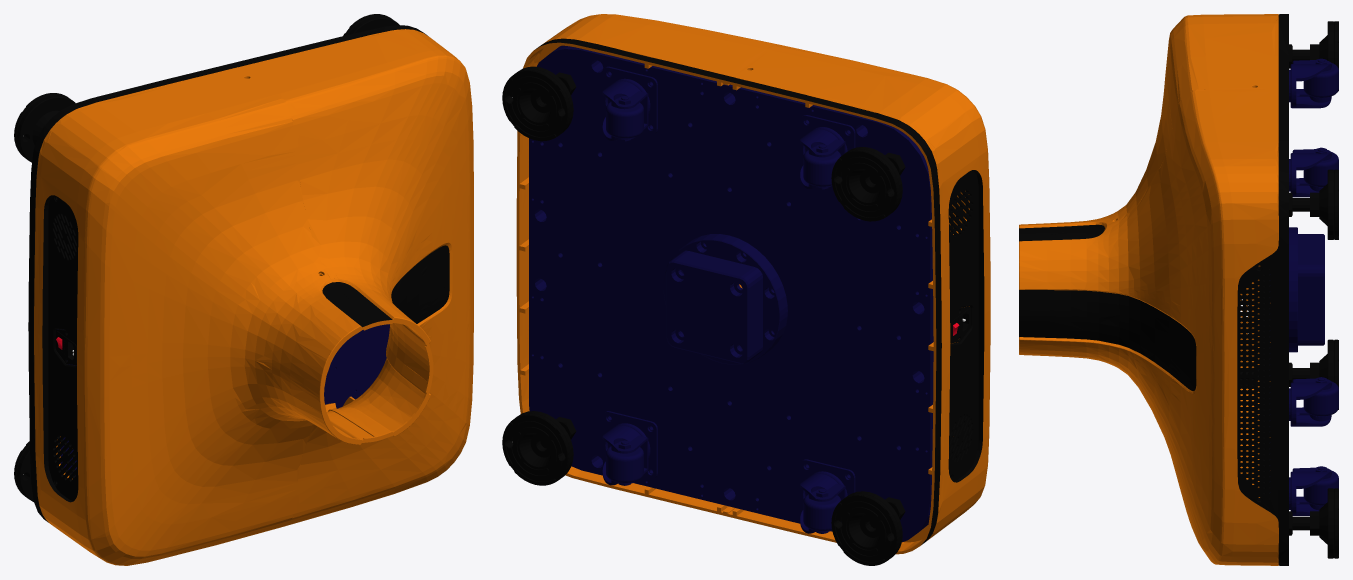
The picture shows the model from 3 angles, left to right: view 1: azimuth 30°, elevation 25°; view 2: azimuth 150°, elevation 25°; view 3: azimuth 270°, elevation 25°; orthographic projection. The views are drawn at different scales.
Visible parts, largest first — view 1: chassis cover, chassis base, foot2, foot3, foot1, charging case; view 2: chassis base, chassis cover, foot3, foot1, foot2, foot4, wheel4, wheel1, wheel2, wheel3; view 3: chassis cover, chassis base, wheel2, wheel3, wheel1, wheel4, foot4, foot1, foot3, foot2.
Part boxes in pixels (bbox=[...]): chassis cover: bbox=[28, 25, 473, 565]; chassis base: bbox=[58, 324, 389, 475]; foot2: bbox=[14, 93, 75, 162]; foot3: bbox=[14, 441, 33, 501]; foot1: bbox=[343, 14, 399, 35]; charging case: bbox=[55, 329, 76, 365]; chassis base: bbox=[529, 45, 933, 542]; chassis cover: bbox=[516, 14, 990, 554]; foot3: bbox=[831, 491, 902, 565]; foot1: bbox=[502, 66, 573, 141]; foot2: bbox=[831, 147, 902, 221]; foot4: bbox=[502, 411, 573, 485]; wheel4: bbox=[602, 411, 657, 485]; wheel1: bbox=[602, 66, 657, 141]; wheel2: bbox=[800, 115, 855, 189]; wheel3: bbox=[800, 459, 855, 533]; chassis cover: bbox=[1019, 14, 1288, 565]; chassis base: bbox=[1270, 227, 1324, 492]; wheel2: bbox=[1289, 58, 1338, 108]; wheel3: bbox=[1289, 377, 1338, 426]; wheel1: bbox=[1289, 147, 1338, 197]; wheel4: bbox=[1289, 466, 1338, 515]; foot4: bbox=[1292, 488, 1338, 558]; foot1: bbox=[1292, 169, 1338, 239]; foot3: bbox=[1240, 339, 1338, 409]; foot2: bbox=[1292, 21, 1338, 91].
Bounding box in the file's own units: 0.6374 × 0.632 × 0.455.
